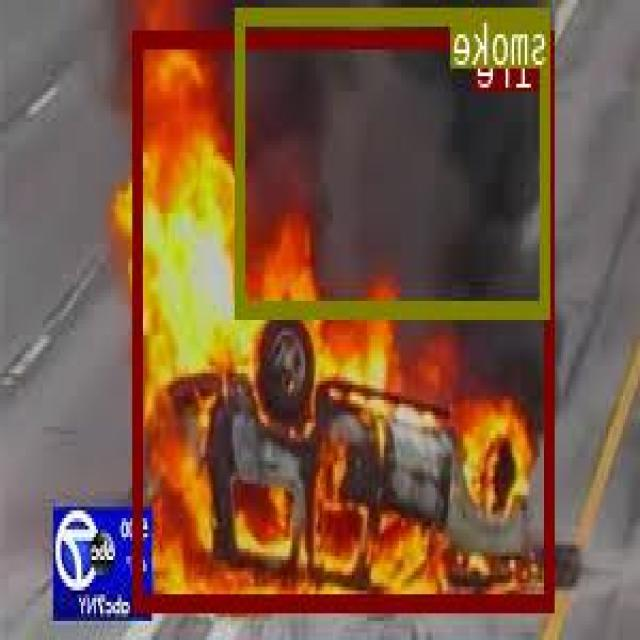fire: (136, 28, 556, 608)
smoke: (238, 4, 551, 312)
